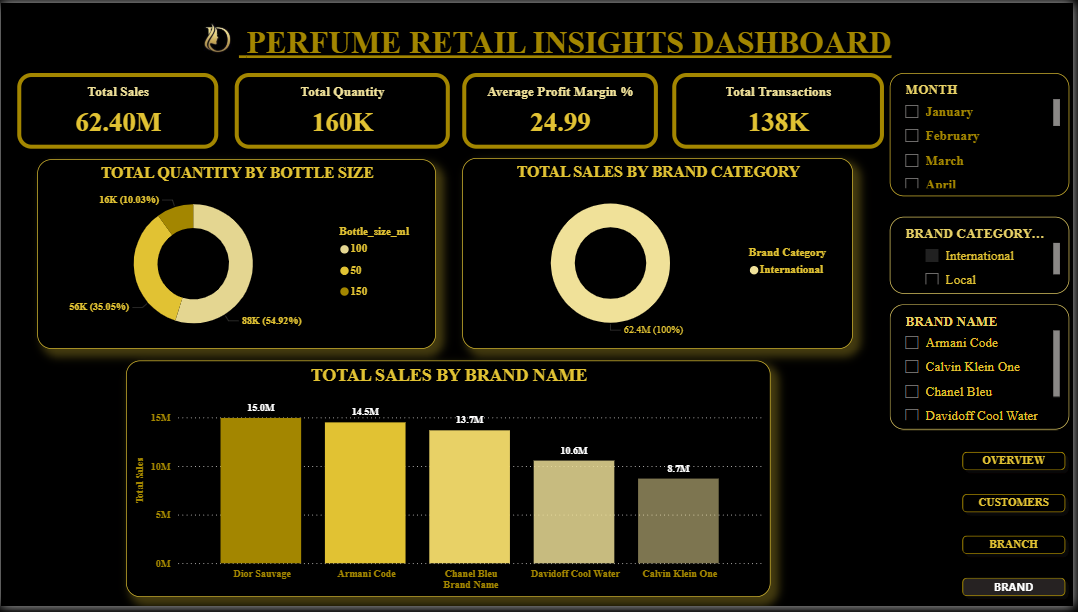

The dashboard page shown, as its layout file describes it:
{"tool":"powerbi","page":{"name":"BRAND","canvas":[1280,720],"ordinal":3},"visuals":[{"type":"image","box":[214.1,0,90.6,83.7],"z":0},{"type":"textbox","box":[278.7,20.5,816.8,62.7],"z":1000},{"type":"slicer","fields":{"Values":["Date.date.Variation.Date Hierarchy.Month"]},"box":[1060.7,83.7,214.1,146.8],"z":2000},{"type":"slicer","fields":{"Values":["Brand.brand_category","Brand.brand_category"]},"box":[1060.7,255.2,214.1,91.9],"z":3000},{"type":"slicer","fields":{"Values":["Brand.brand_name"]},"box":[1060.7,359.5,214.1,149.6],"z":4000},{"type":"cardVisual","fields":{"Data":["Sales2024.Total Sales"]},"box":[19.2,83.7,240.1,90.6],"z":5000},{"type":"cardVisual","fields":{"Data":["Sales2024.Total Quantity"]},"box":[278.6,83.7,256.6,90.6],"z":6000},{"type":"cardVisual","fields":{"Data":["Sales2024.Average Profit Margin %"]},"box":[550.3,83.7,233.3,90.6],"z":7000},{"type":"cardVisual","fields":{"Data":["Sales2024.Total Transactions"]},"box":[801.4,83.7,252.5,90.6],"z":8000},{"type":"donutChart","title":"TOTAL SALES BY BRAND CATEGORY","fields":{"Y":["Sales2024.Total Sales"],"Category":["Brand.brand_category"]},"box":[550.3,185.2,466.6,227.8],"z":9000},{"type":"donutChart","title":"TOTAL QUANTITY BY BOTTLE SIZE","fields":{"Y":["Sales2024.Total Quantity"],"Category":["BottleSize.bottle_size_ml"]},"box":[42.5,186.6,476.2,226.4],"z":10000},{"type":"clusteredColumnChart","title":"TOTAL SALES BY BRAND NAME","fields":{"Category":["Brand.brand_name"],"Y":["Sales2024.Total Sales"]},"box":[149.6,426.8,769.8,282.7],"z":11000},{"type":"pageNavigator","box":[1138.9,526.9,141.3,193.5],"z":12000}]}

Visuals, with their boxes in screenshot pixels (x1, y1, x2, y2), scaled from the page's 1280x720 canvas onto the 1078x612 screenshot:
image: pyautogui.locateOnScreen(180, 0, 257, 71)
textbox: pyautogui.locateOnScreen(235, 17, 923, 71)
slicer - Date.date.Variation.Date Hierarchy.Month: pyautogui.locateOnScreen(893, 71, 1074, 196)
slicer - Brand.brand_category x Brand.brand_category: pyautogui.locateOnScreen(893, 217, 1074, 295)
slicer - Brand.brand_name: pyautogui.locateOnScreen(893, 306, 1074, 433)
cardVisual - Sales2024.Total Sales: pyautogui.locateOnScreen(16, 71, 218, 148)
cardVisual - Sales2024.Total Quantity: pyautogui.locateOnScreen(235, 71, 451, 148)
cardVisual - Sales2024.Average Profit Margin %: pyautogui.locateOnScreen(463, 71, 660, 148)
cardVisual - Sales2024.Total Transactions: pyautogui.locateOnScreen(675, 71, 888, 148)
"TOTAL SALES BY BRAND CATEGORY" donutChart: pyautogui.locateOnScreen(463, 157, 856, 351)
"TOTAL QUANTITY BY BOTTLE SIZE" donutChart: pyautogui.locateOnScreen(36, 159, 437, 351)
"TOTAL SALES BY BRAND NAME" clusteredColumnChart: pyautogui.locateOnScreen(126, 363, 774, 603)
pageNavigator: pyautogui.locateOnScreen(959, 448, 1077, 611)
